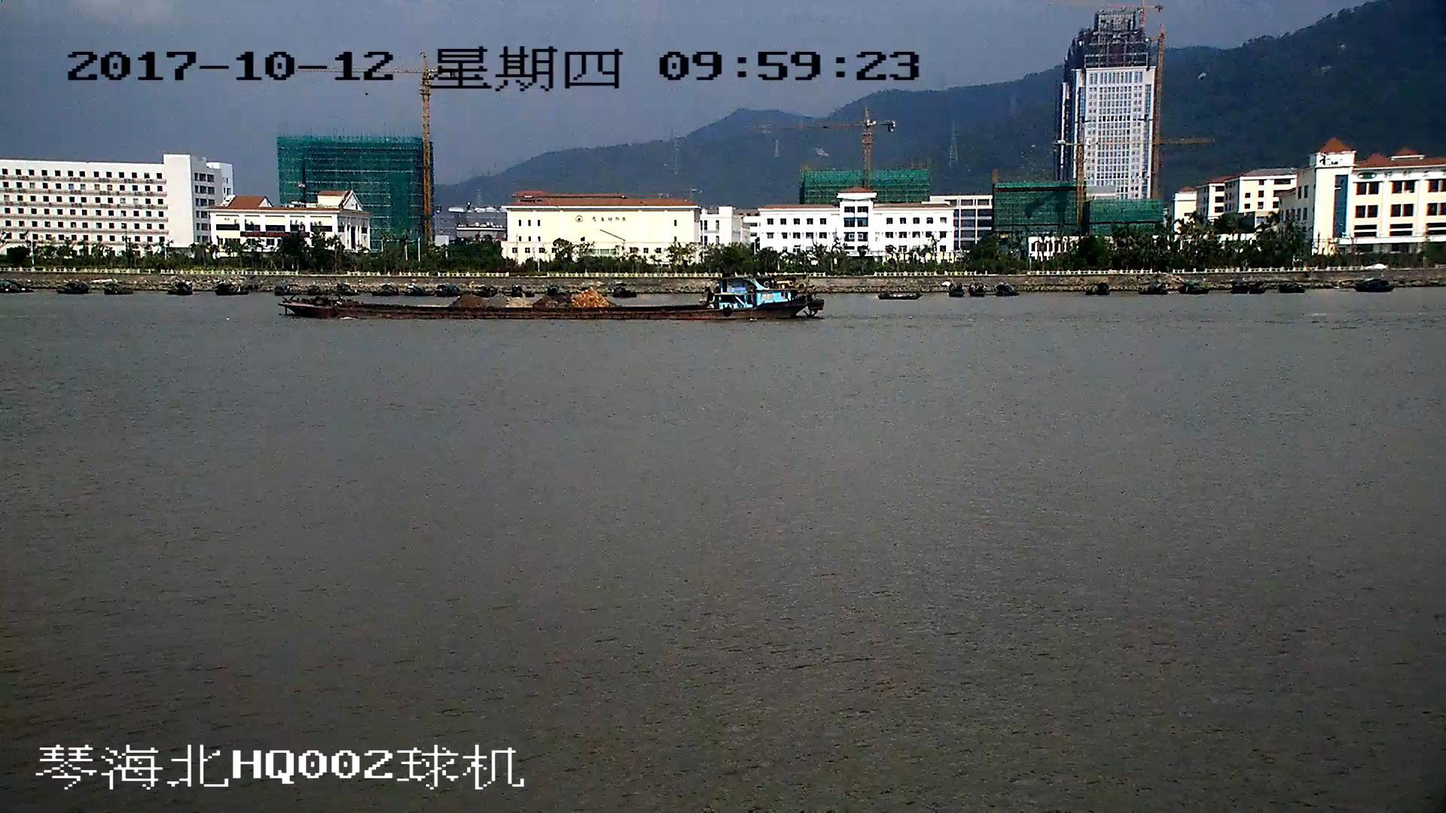ore carrier: (283, 271, 822, 321)
